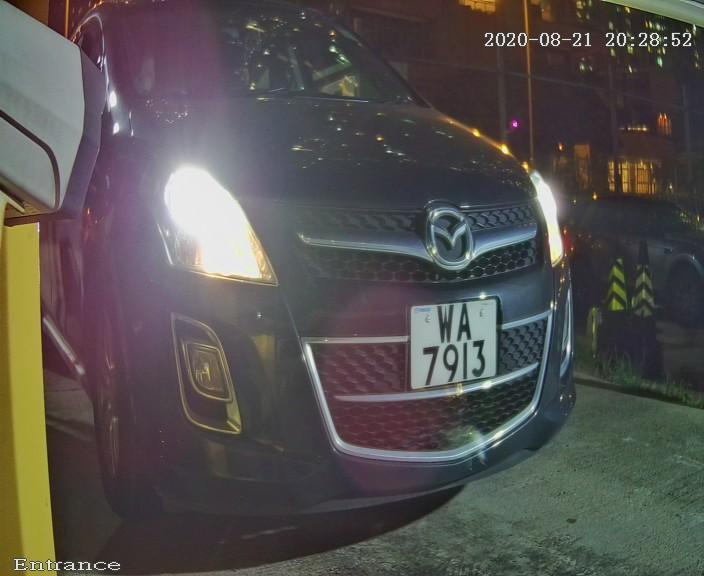Car: (38, 1, 620, 543)
License Plate: (391, 278, 515, 408)
